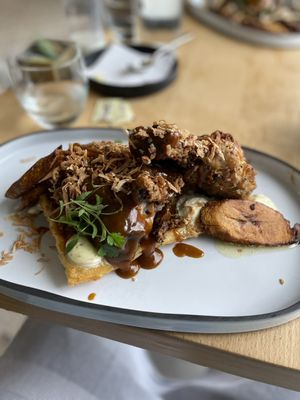pizza: (10, 37, 88, 128), (63, 0, 108, 59)
